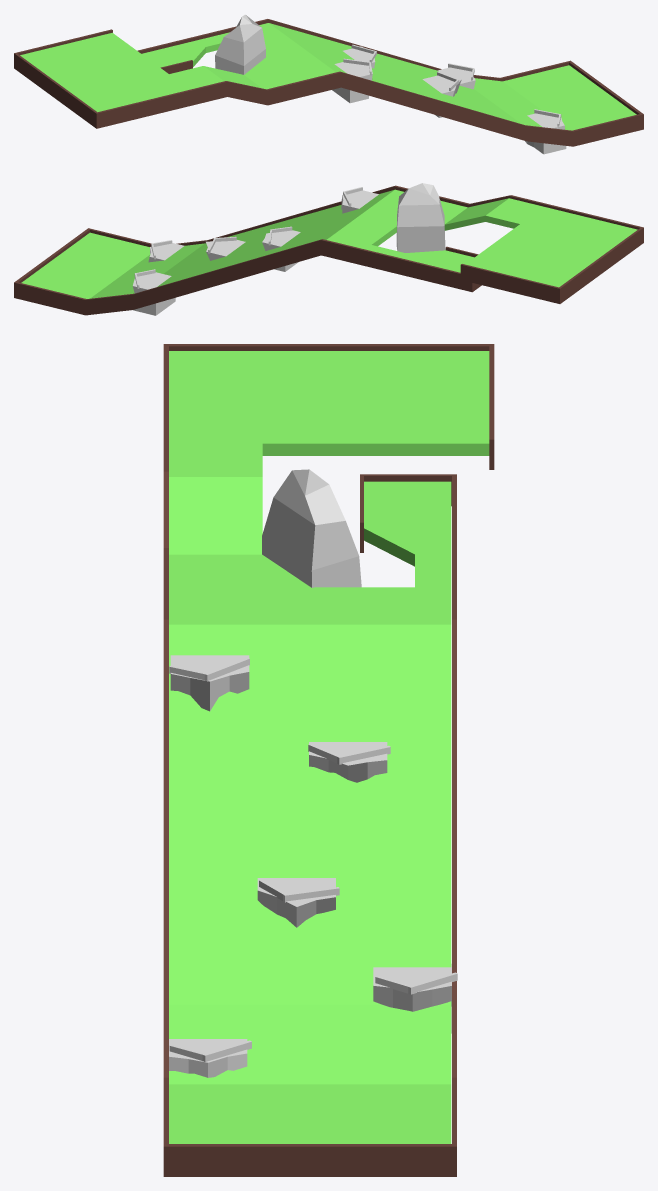
3 views of the same model, one above another, from view 1: azimuth 30°, elevation 25°; view 2: azimuth 150°, elevation 25°; view 3: azimuth 270°, elevation 25° (orthographic). The views are drawn at different scales.
Visible parts, largest first — view 1: Cube.041, Cube.042, Cube.047, Cube.048, Cube.043, Cube.045, Cube.044, Cube.046; view 2: Cube.041, Cube.042, Cube.047, Cube.044, Cube.046, Cube.048, Cube.045, Cube.043; view 3: Cube.041, Cube.042, Cube.047, Cube.048, Cube.044, Cube.045, Cube.043, Cube.046.
Part boxes in pixels (<box>): Cube.041: <box>20,23,636,130</box>; Cube.042: <box>14,19,643,146</box>; Cube.047: <box>215,14,265,74</box>; Cube.048: <box>332,62,372,103</box>; Cube.043: <box>525,113,566,154</box>; Cube.045: <box>422,75,461,117</box>; Cube.044: <box>437,67,475,89</box>; Cube.046: <box>343,46,375,68</box>; Cube.041: <box>21,189,637,298</box>; Cube.042: <box>14,185,643,315</box>; Cube.047: <box>396,183,445,252</box>; Cube.044: <box>133,272,175,315</box>; Cube.046: <box>262,230,300,271</box>; Cube.048: <box>341,190,378,213</box>; Cube.045: <box>206,240,245,260</box>; Cube.043: <box>148,243,184,262</box>; Cube.041: <box>169,351,489,1143</box>; Cube.042: <box>163,344,494,1176</box>; Cube.047: <box>262,469,361,587</box>; Cube.048: <box>170,655,249,711</box>; Cube.044: <box>373,963,451,1033</box>; Cube.045: <box>257,878,335,927</box>; Cube.043: <box>169,1039,247,1077</box>; Cube.046: <box>309,742,387,782</box>.
Bounding box in the file's own units: 3075 × 951 × 804.
